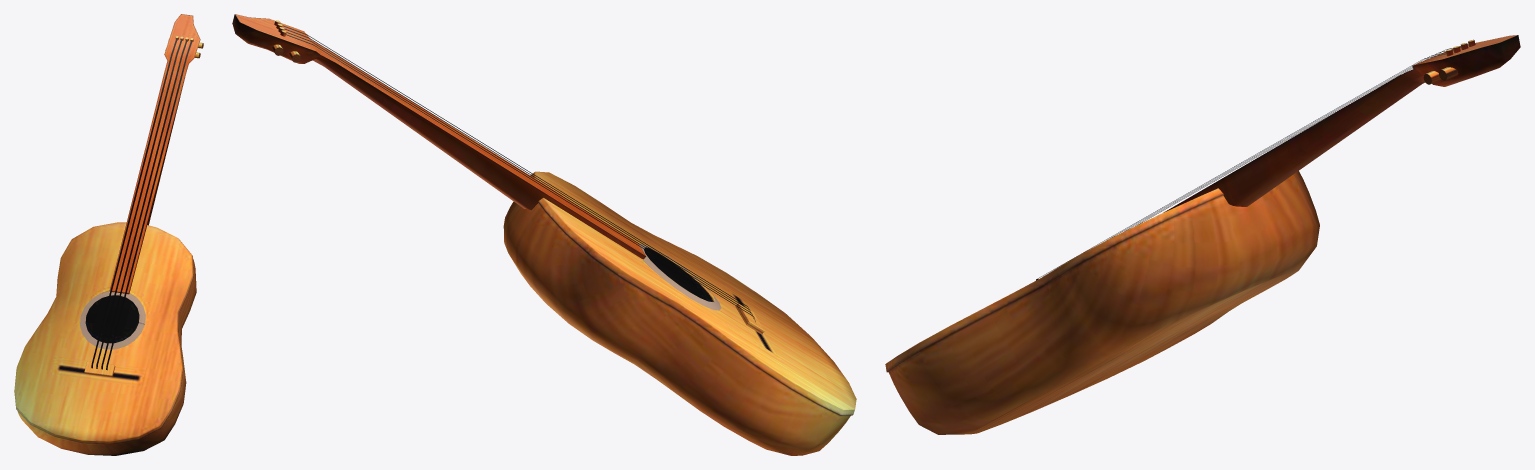
Rendered from guitar.fbx.
The picture shows the model from 3 angles, left to right: view 1: azimuth 30°, elevation 25°; view 2: azimuth 150°, elevation 25°; view 3: azimuth 270°, elevation 25°; orthographic projection. The views are drawn at different scales.
Parts seen in each view (by area): view 1: guitar; view 2: guitar; view 3: guitar.
Part boxes in pixels (x1,y1,x2,y2): guitar: (14,14,203,455); guitar: (232,14,856,455); guitar: (885,35,1520,434).
Size of the model in its own units: 6.63 by 6.69 by 6.57.
